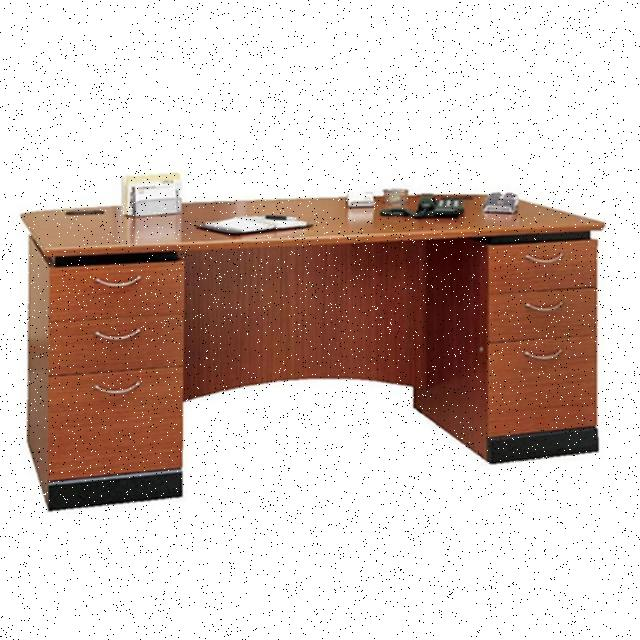mobile-phone: (24, 173, 608, 516)
